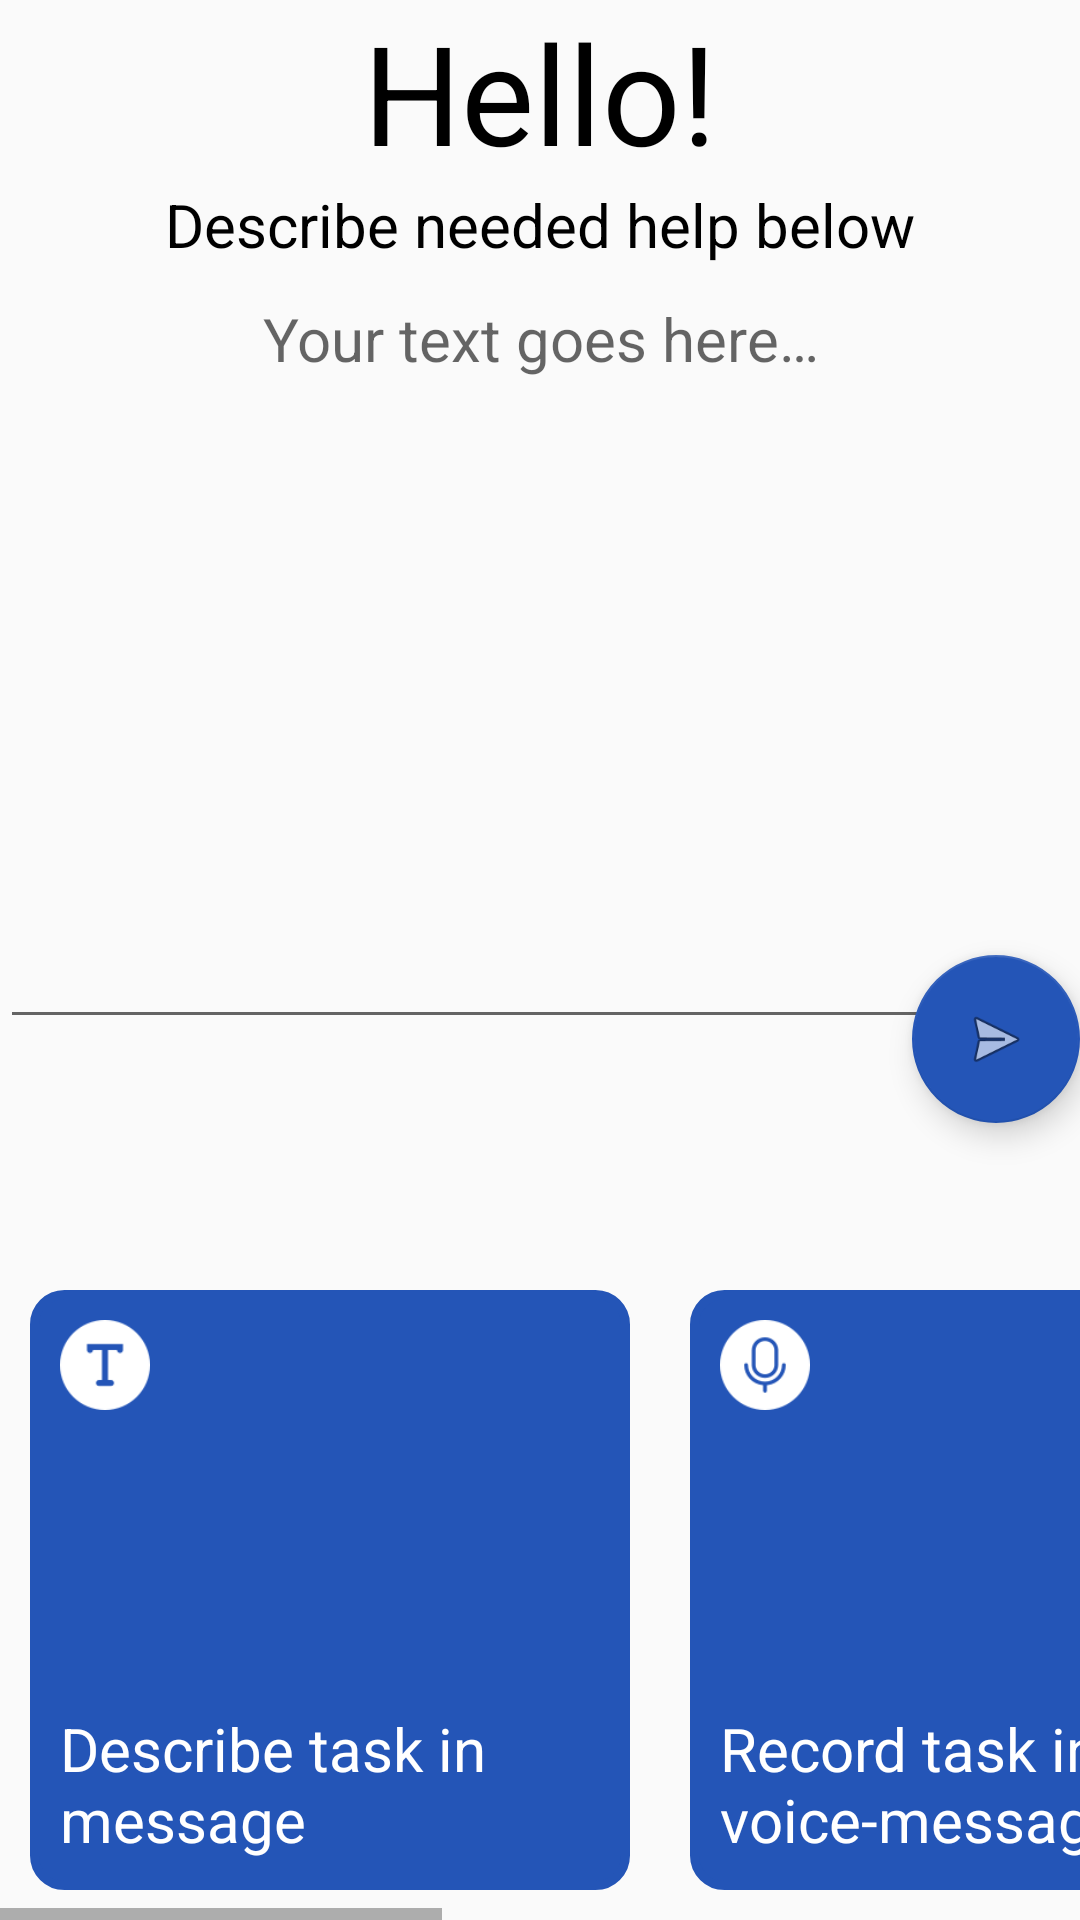

Screen size 1080x1920. Icon name, then its center in pixels as point (x, y):
microphone: point (765, 1365)
send: point (996, 1039)
text: point (105, 1365)
